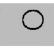no answer: (21, 8, 46, 33)
